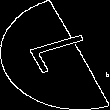L_E: (14, 31, 96, 79)
